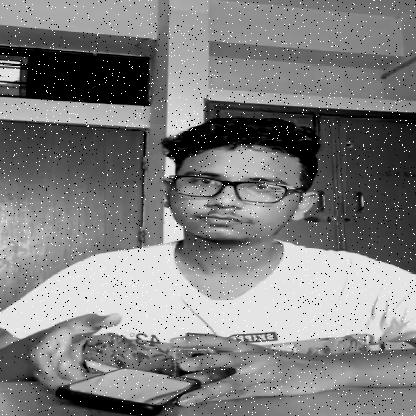Normal: (106, 124, 346, 248)
